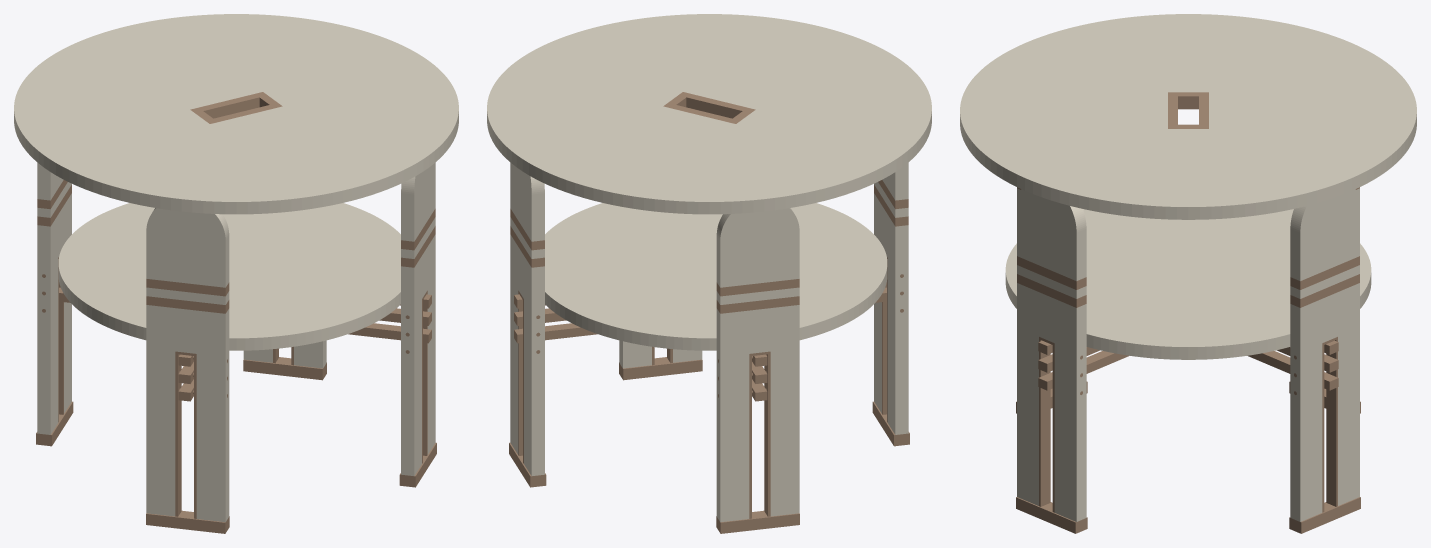
The picture shows the model from 3 angles, left to right: view 1: azimuth 30°, elevation 25°; view 2: azimuth 150°, elevation 25°; view 3: azimuth 270°, elevation 25°; orthographic projection. The views are drawn at different scales.
Visible parts, largest first — view 1: P01 Upper circular maple top with grip recess, P06 Lower circular maple shelf — no opening, P21 Arched blade 225 / maple segment 1, P28 Arched blade 315 / maple segment 1, P14 Arched blade 135 / maple segment 1, P23 Arched blade 225 / maple segment 3, P30 Arched blade 315 / maple segment 3, P13 Foot shoe 45, P27 Foot shoe 225, P07 Arched blade 45 / maple segment 1, P24 Slot jamb 225 / -1, P02 Grip mitred strip north (+9 smaller); view 2: P01 Upper circular maple top with grip recess, P06 Lower circular maple shelf — no opening, P14 Arched blade 135 / maple segment 1, P07 Arched blade 45 / maple segment 1, P21 Arched blade 225 / maple segment 1, P16 Arched blade 135 / maple segment 3, P09 Arched blade 45 / maple segment 3, P34 Foot shoe 315, P20 Foot shoe 135, P28 Arched blade 315 / maple segment 1, P18 Slot jamb 135 / 1, P03 Grip mitred strip south (+9 smaller); view 3: P01 Upper circular maple top with grip recess, P06 Lower circular maple shelf — no opening, P07 Arched blade 45 / maple segment 1, P28 Arched blade 315 / maple segment 1, P09 Arched blade 45 / maple segment 3, P30 Arched blade 315 / maple segment 3, P11 Slot jamb 45 / 1, P31 Slot jamb 315 / -1, P13 Foot shoe 45, P34 Foot shoe 315, P39 X level 3 beam 1, P40 X level 3 beam 2 (+6 smaller).
Part boxes in pixels (x1,y1,x2,y2): P01 Upper circular maple top with grip recess: [14, 14, 458, 214]; P06 Lower circular maple shelf — no opening: [58, 203, 400, 350]; P21 Arched blade 225 / maple segment 1: [146, 305, 229, 522]; P28 Arched blade 315 / maple segment 1: [401, 234, 435, 475]; P14 Arched blade 135 / maple segment 1: [37, 193, 71, 434]; P23 Arched blade 225 / maple segment 3: [146, 208, 229, 287]; P30 Arched blade 315 / maple segment 3: [401, 162, 435, 241]; P13 Foot shoe 45: [243, 357, 326, 380]; P27 Foot shoe 225: [146, 510, 229, 533]; P07 Arched blade 45 / maple segment 1: [243, 340, 326, 368]; P24 Slot jamb 225 / -1: [175, 354, 181, 516]; P02 Grip mitred strip north: [191, 92, 262, 118]; P01 Upper circular maple top with grip recess: [487, 14, 931, 214]; P06 Lower circular maple shelf — no opening: [545, 203, 887, 350]; P14 Arched blade 135 / maple segment 1: [716, 305, 799, 522]; P07 Arched blade 45 / maple segment 1: [510, 234, 544, 475]; P21 Arched blade 225 / maple segment 1: [874, 193, 908, 434]; P16 Arched blade 135 / maple segment 3: [716, 208, 799, 287]; P09 Arched blade 45 / maple segment 3: [510, 162, 544, 241]; P34 Foot shoe 315: [619, 357, 702, 380]; P20 Foot shoe 135: [716, 510, 799, 533]; P28 Arched blade 315 / maple segment 1: [619, 340, 702, 368]; P18 Slot jamb 135 / 1: [764, 354, 770, 516]; P03 Grip mitred strip south: [683, 92, 754, 118]; P01 Upper circular maple top with grip recess: [960, 14, 1416, 219]; P06 Lower circular maple shelf — no opening: [1005, 209, 1371, 359]; P07 Arched blade 45 / maple segment 1: [1290, 283, 1359, 521]; P28 Arched blade 315 / maple segment 1: [1017, 283, 1086, 521]; P09 Arched blade 45 / maple segment 3: [1290, 189, 1359, 281]; P30 Arched blade 315 / maple segment 3: [1017, 189, 1086, 281]; P11 Slot jamb 45 / 1: [1326, 339, 1337, 506]; P31 Slot jamb 315 / -1: [1039, 339, 1050, 506]; P13 Foot shoe 45: [1289, 497, 1360, 533]; P34 Foot shoe 315: [1016, 497, 1087, 533]; P39 X level 3 beam 1: [1247, 351, 1338, 390]; P40 X level 3 beam 2: [1038, 351, 1129, 390].
Bounding box in the file's own units: 0.65 × 0.55 × 0.6498.
